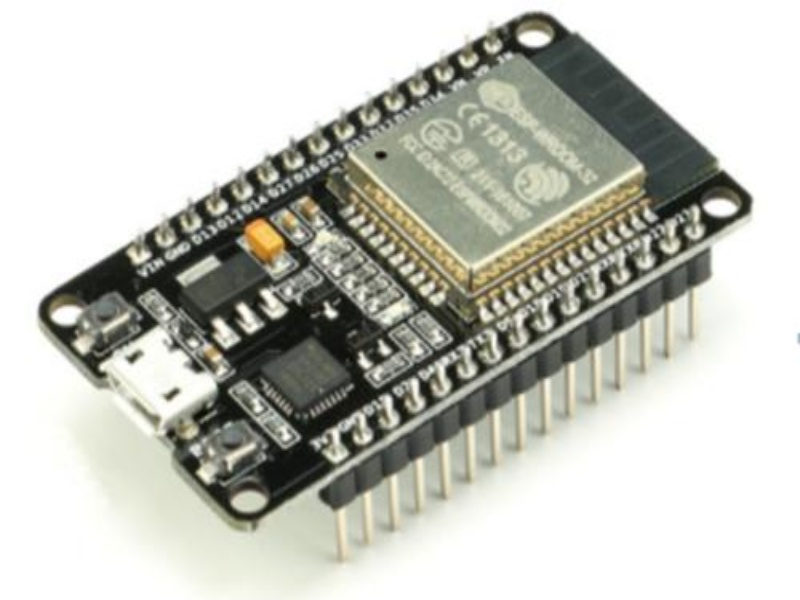esp32: (83, 15, 742, 497)
